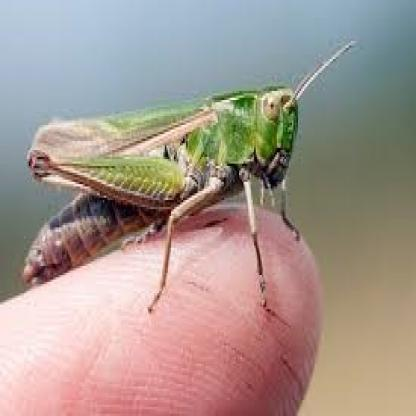grasshopper: (16, 43, 353, 334)
